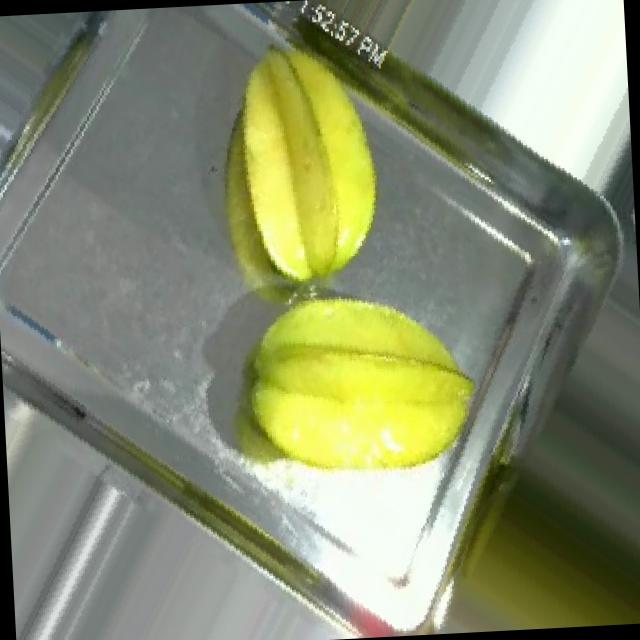fruit: (196, 225, 514, 528), (152, 6, 434, 322), (364, 454, 640, 637)
